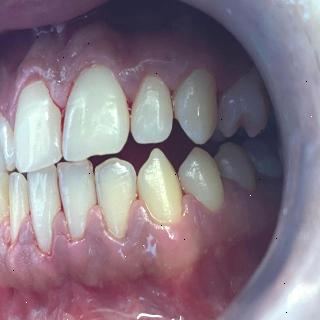Gum Swelling: (0, 194, 211, 271), (15, 52, 239, 112)
maligned: (216, 72, 274, 144)
